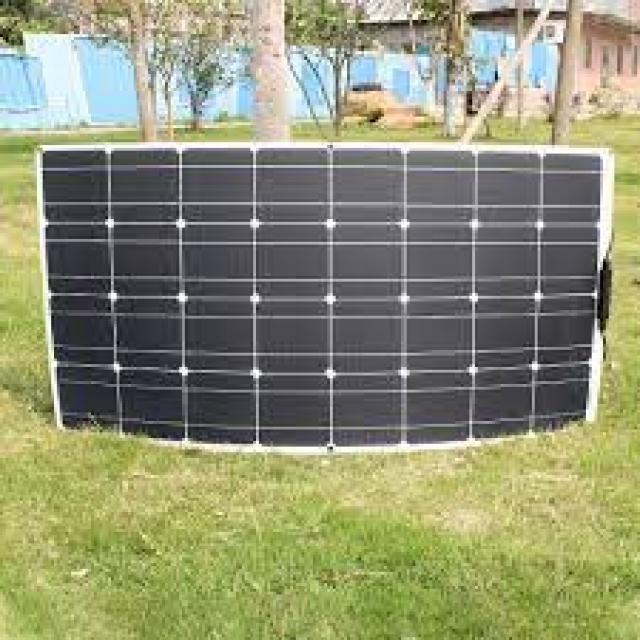no faulty: (44, 141, 606, 433)
